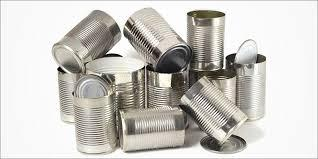Tin: (16, 7, 317, 159)
